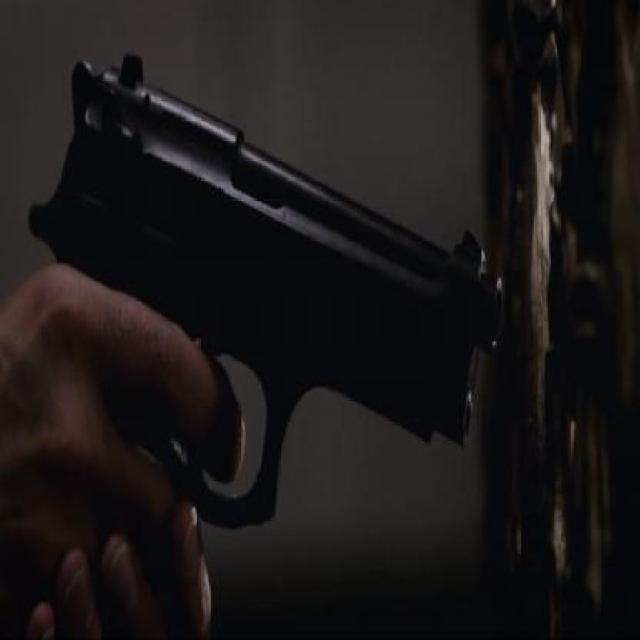gun: (36, 3, 518, 549)
